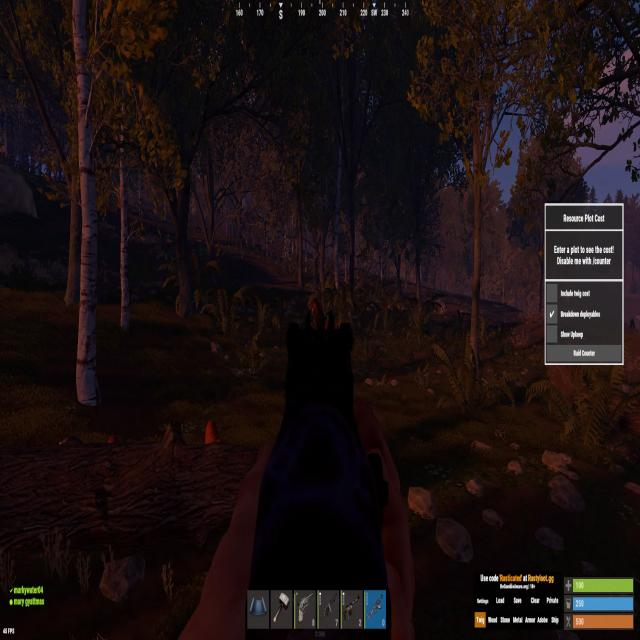Player: (308, 294, 328, 332)
